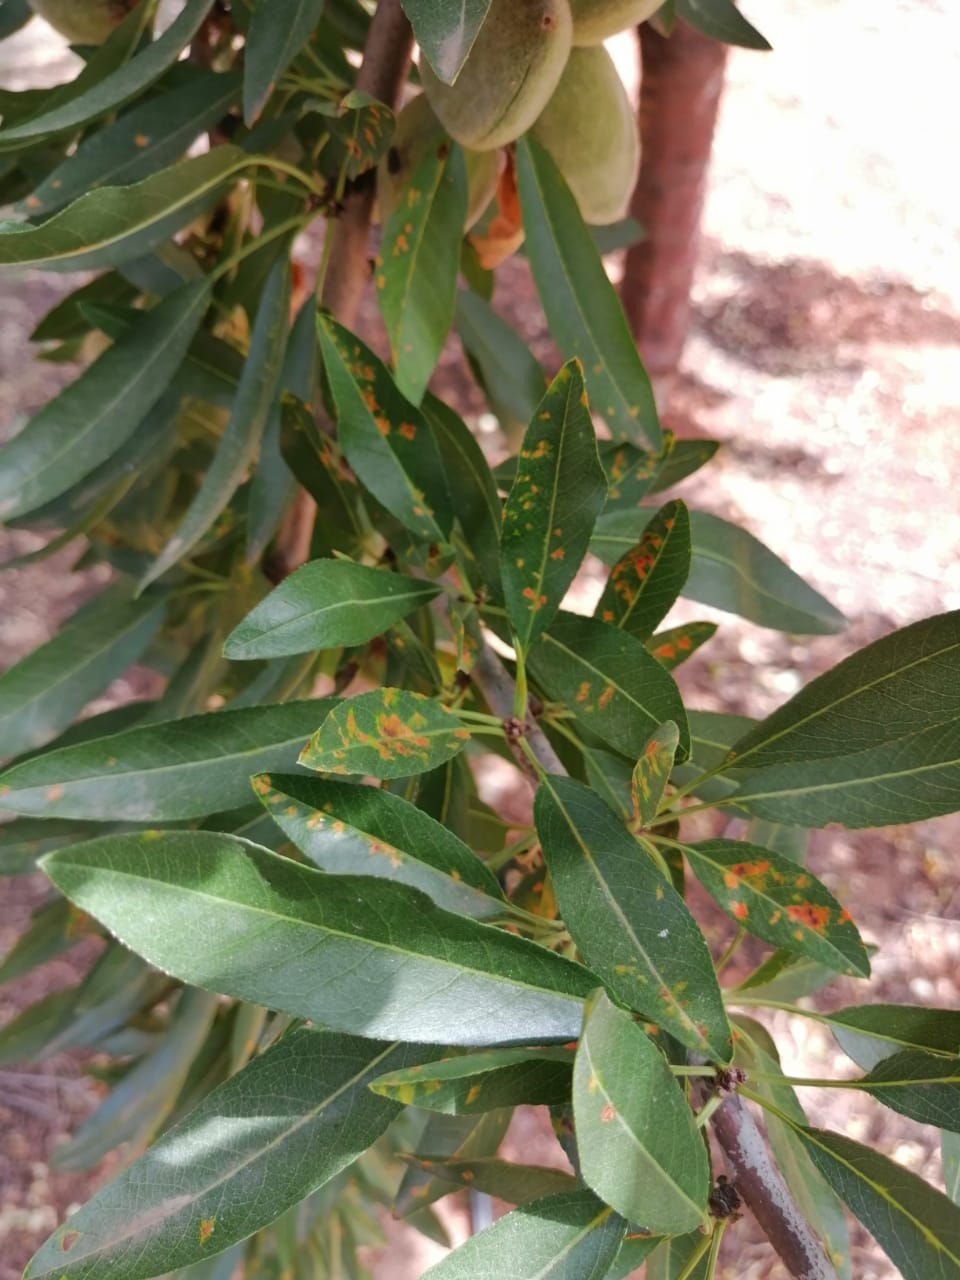rouille: (361, 918, 636, 1280), (426, 642, 960, 813), (407, 1, 530, 253), (538, 992, 765, 1127), (340, 811, 565, 944), (357, 653, 537, 792), (34, 287, 226, 403), (186, 250, 302, 426), (428, 433, 472, 623)
